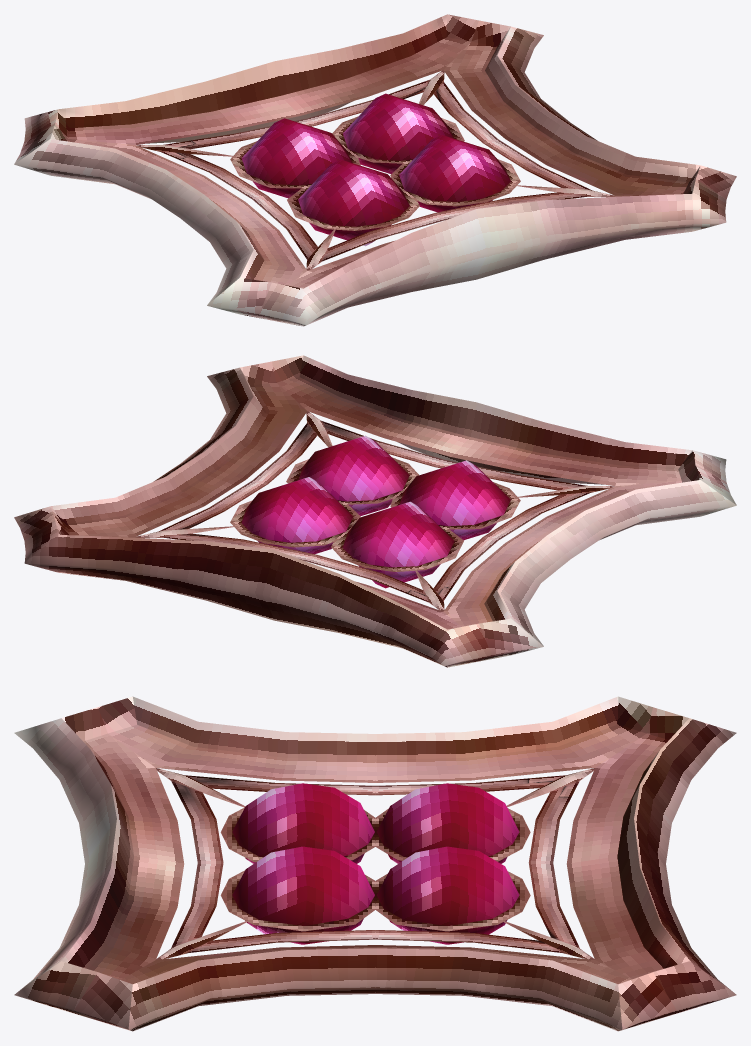
File: monmark02.glb
The picture shows the model from 3 angles, top to bottom: view 1: azimuth 30°, elevation 25°; view 2: azimuth 150°, elevation 25°; view 3: azimuth 270°, elevation 25°; orthographic projection. The views are drawn at different scales.
Visible parts, largest first — view 1: model_monmark02; view 2: model_monmark02; view 3: model_monmark02.
Part boxes in pixels (x1,y1,x2,y2): model_monmark02: (14, 14, 736, 326); model_monmark02: (14, 355, 736, 667); model_monmark02: (14, 696, 736, 1031).
Bounding box in the file's own units: 0.5551 × 0.0768 × 0.5118.
Materials: 2 (2 with a texture image).
